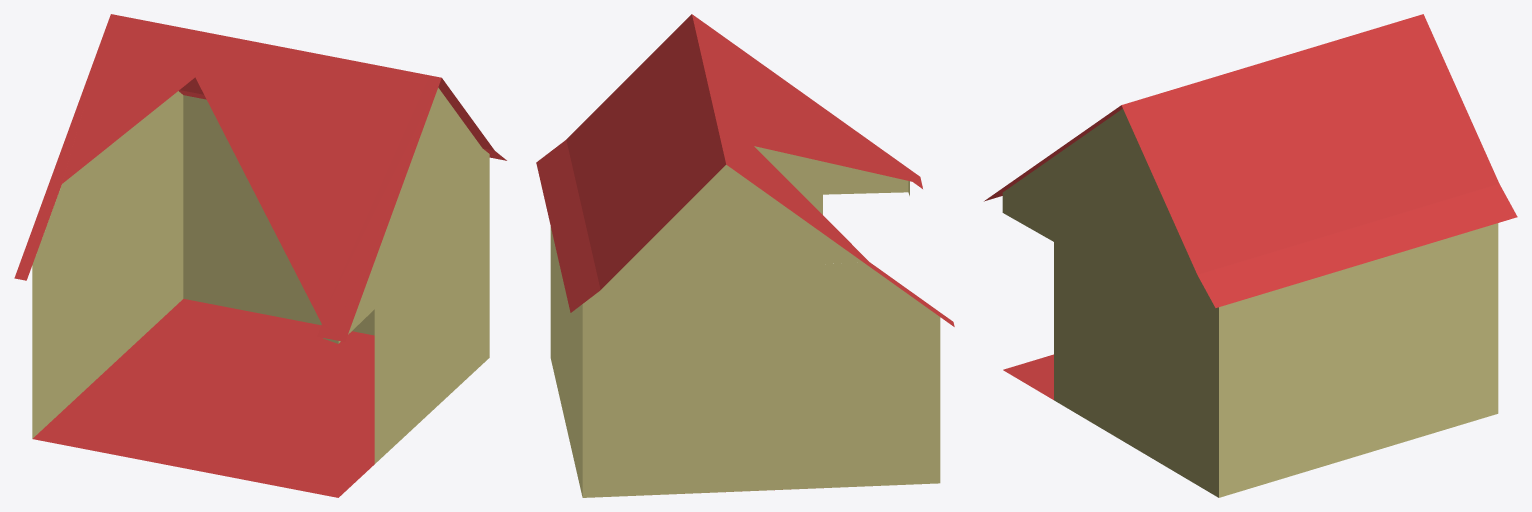
The picture shows the model from 3 angles, left to right: view 1: azimuth 30°, elevation 25°; view 2: azimuth 150°, elevation 25°; view 3: azimuth 270°, elevation 25°; orthographic projection. The views are drawn at different scales.
Bounding box in the file's own units: 19.55 × 19.31 × 13.76.
